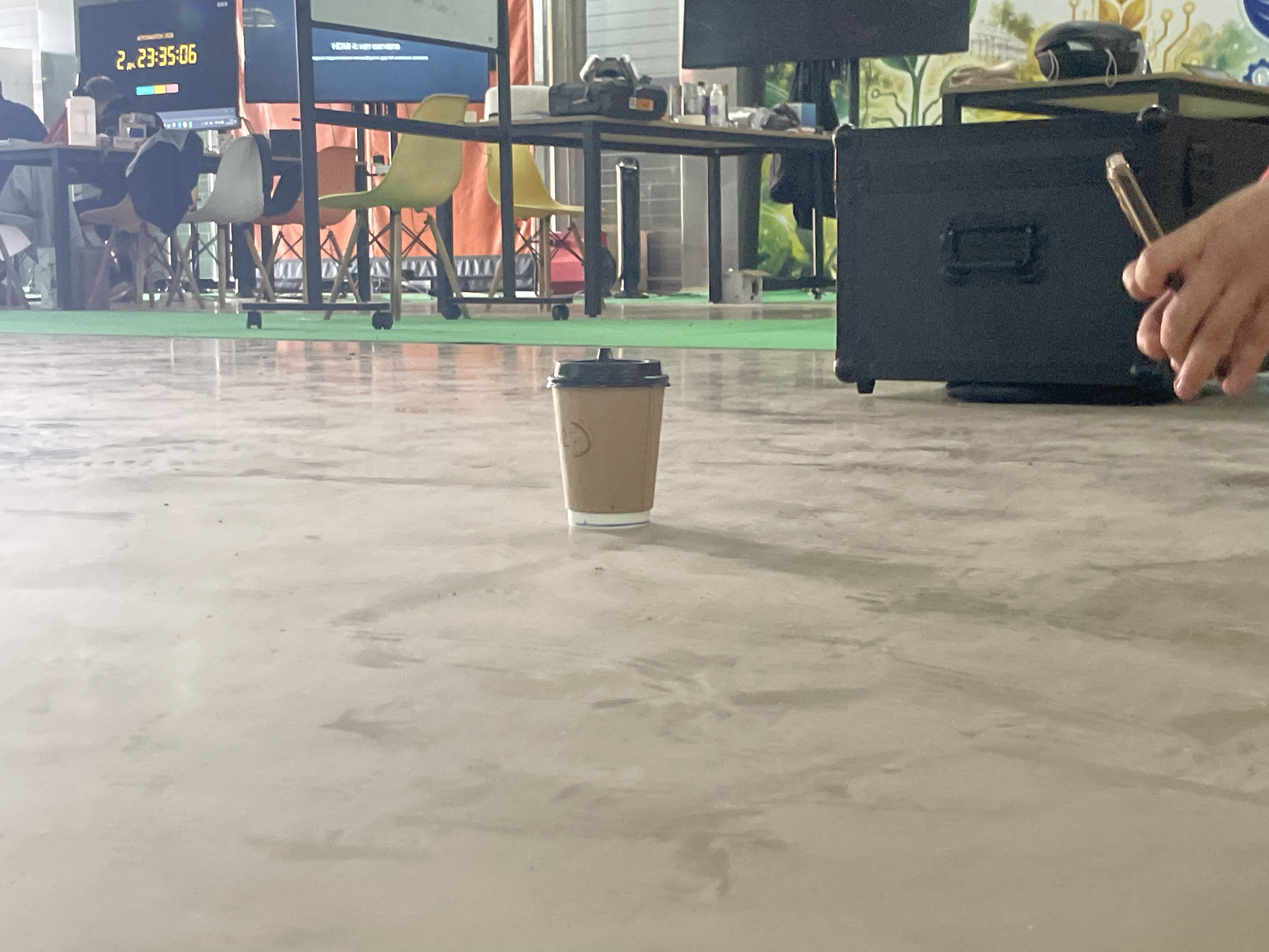cup: (547, 349, 669, 529)
